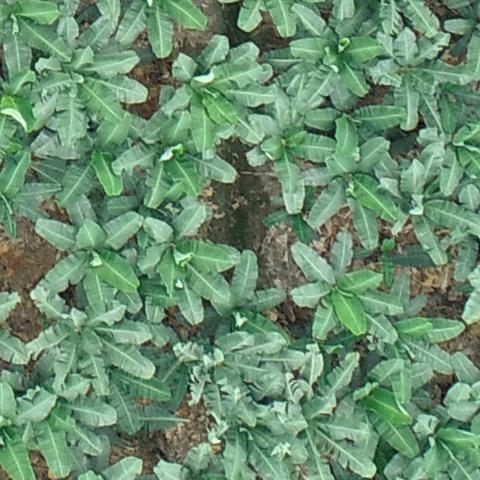Banana-plant: (359, 142, 479, 269), (159, 36, 274, 146), (32, 288, 154, 390), (5, 361, 114, 471), (36, 25, 145, 133), (179, 327, 290, 432), (284, 351, 373, 480), (129, 206, 228, 321), (40, 198, 137, 313), (287, 235, 393, 339), (303, 119, 390, 245), (268, 6, 381, 99), (243, 93, 332, 211), (122, 110, 233, 199), (371, 24, 462, 127), (190, 249, 286, 345), (363, 305, 461, 395), (38, 121, 134, 205), (393, 390, 480, 480), (108, 0, 203, 54), (422, 103, 480, 191), (0, 0, 60, 75)
